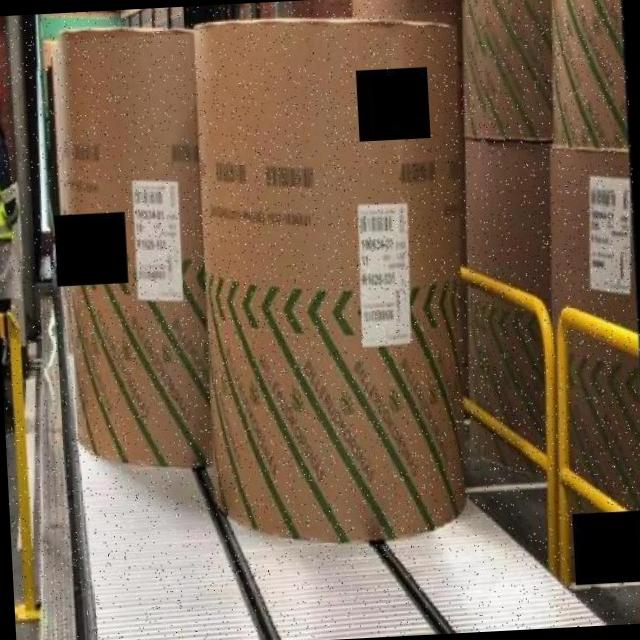box: (189, 11, 484, 558), (51, 34, 214, 474)
